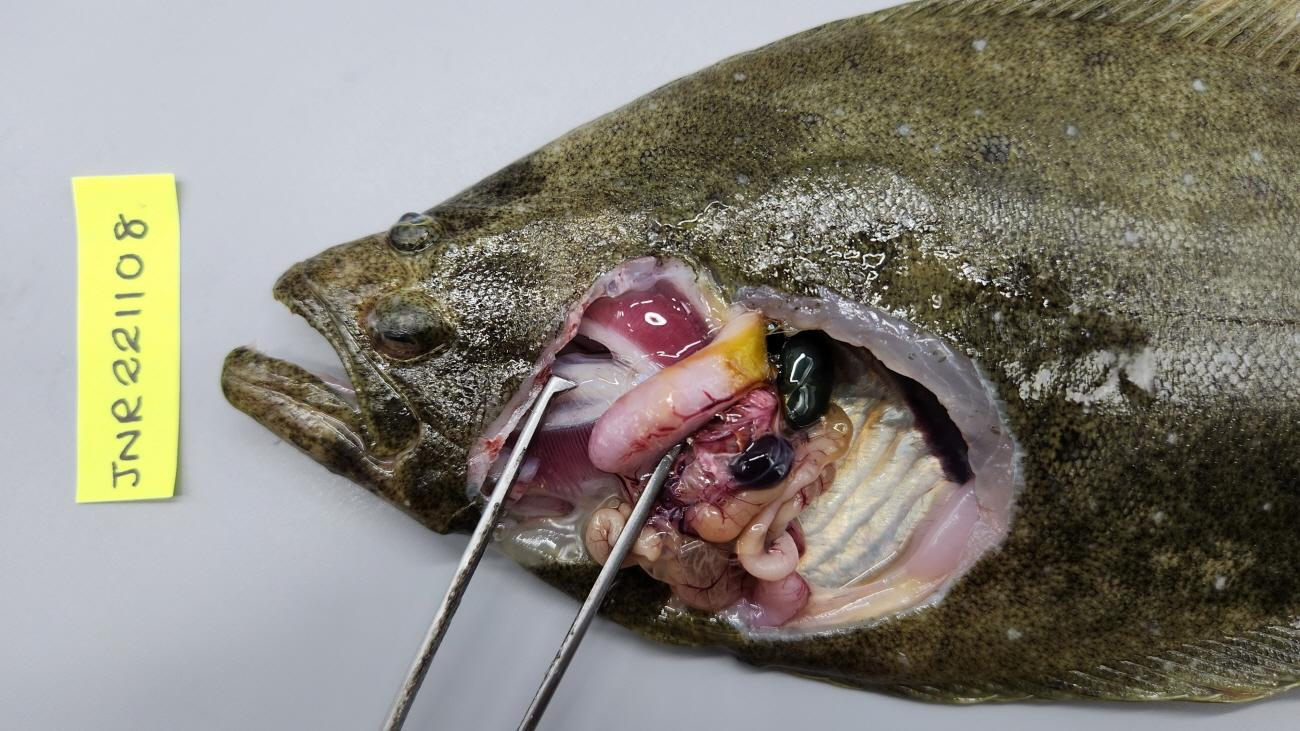POINN: (687, 436, 839, 581)
POSPN: (730, 435, 794, 490)
